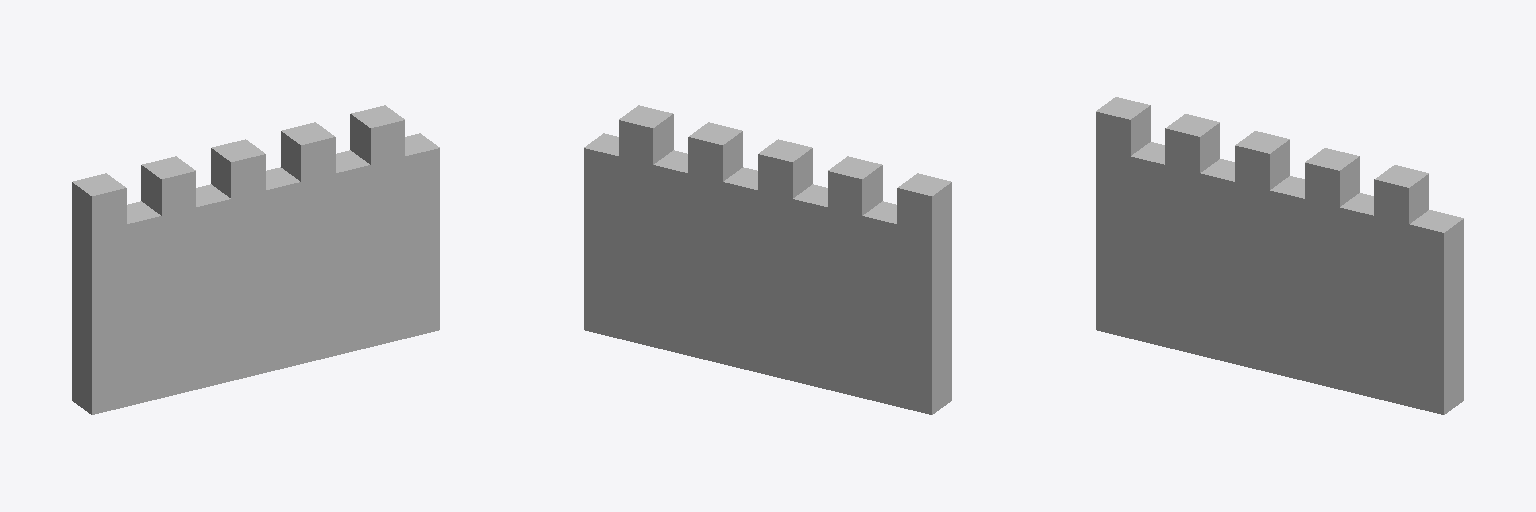
Rendered from wall.obj.
The picture shows the model from 3 angles: view 1: azimuth 30°, elevation 25°; view 2: azimuth 150°, elevation 25°; view 3: azimuth 330°, elevation 25°; orthographic projection.
Visible parts, largest first — view 1: wall; view 2: wall; view 3: wall.
Boxes of the visible parts, x1,y1,x2,y2 form: wall: [72, 105, 439, 414]; wall: [584, 105, 951, 414]; wall: [1096, 97, 1463, 414].
Bounding box in the file's own units: 20 × 12 × 2.